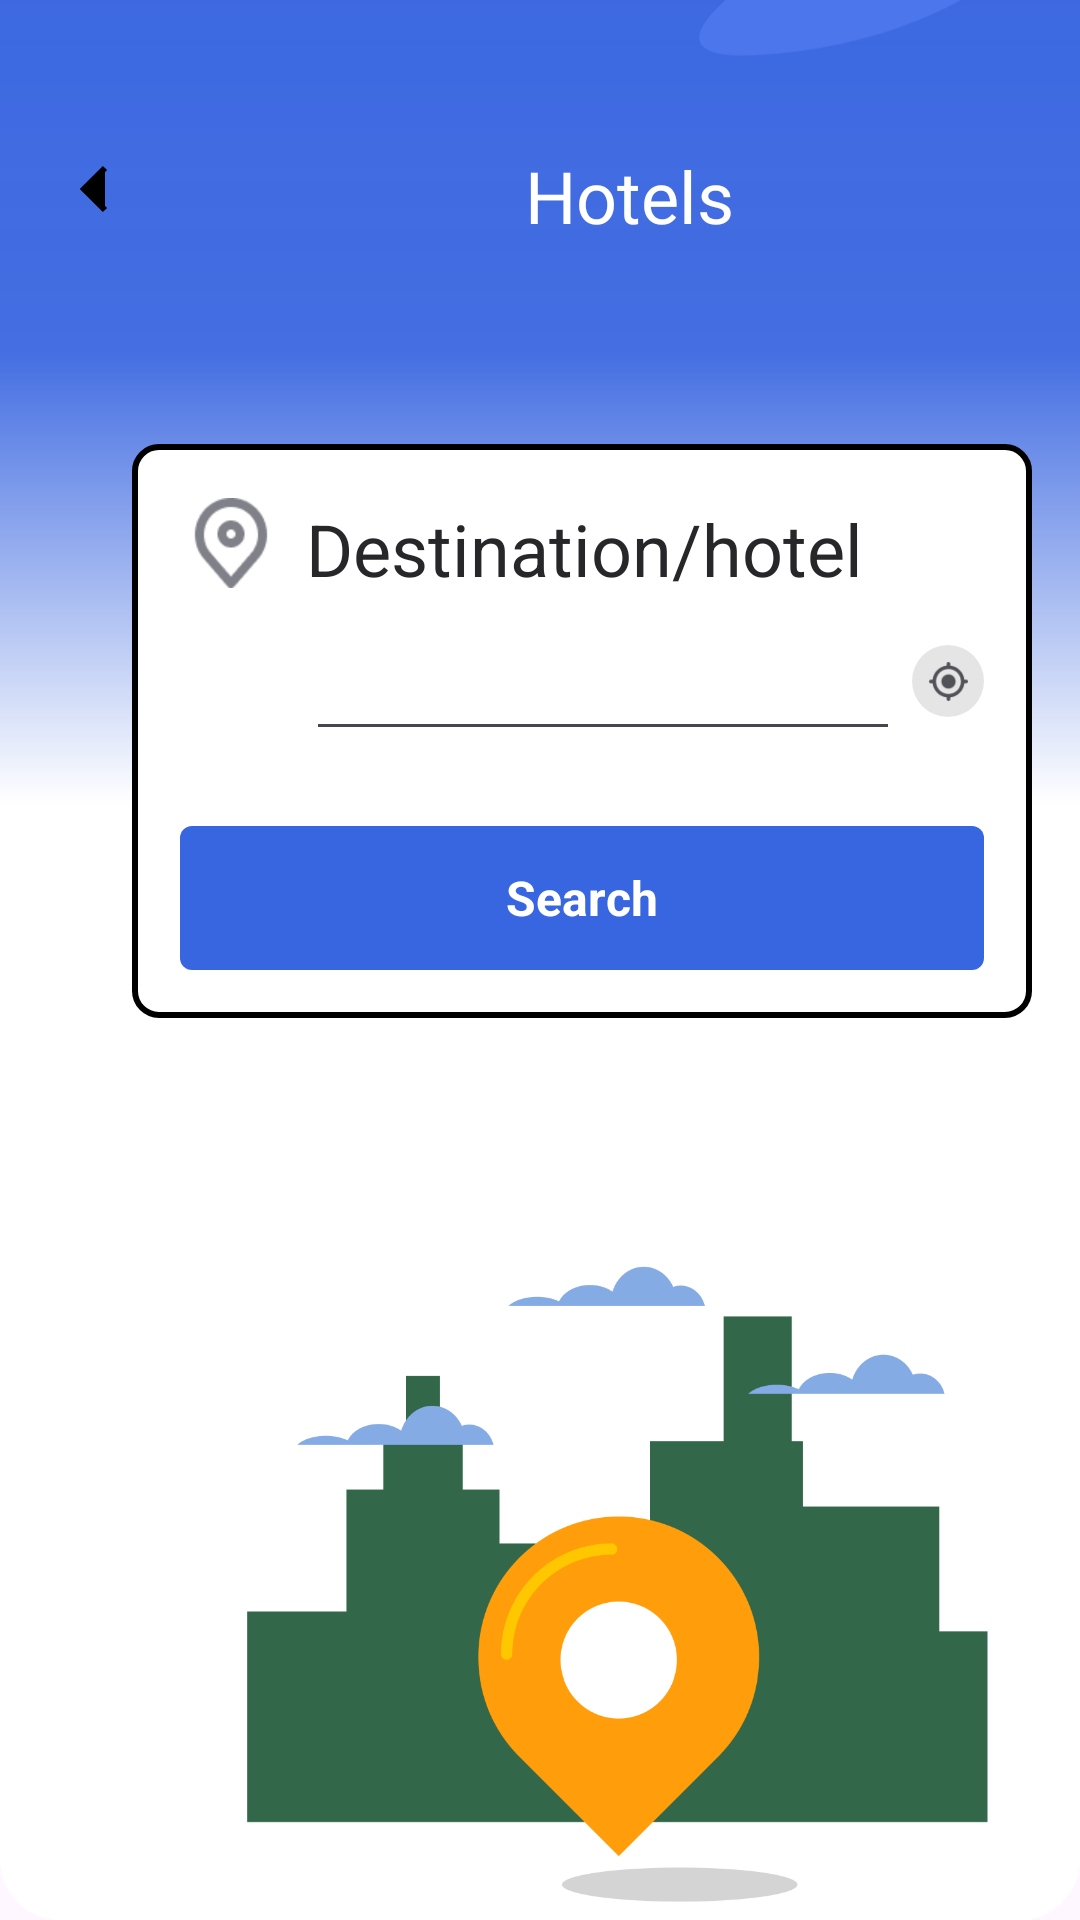

Locate icon controls on the screen. Image size 1080px x 1920px, boxes as (x1, y1, x2, y2).
hotel arrow back: (80, 166, 107, 212)
